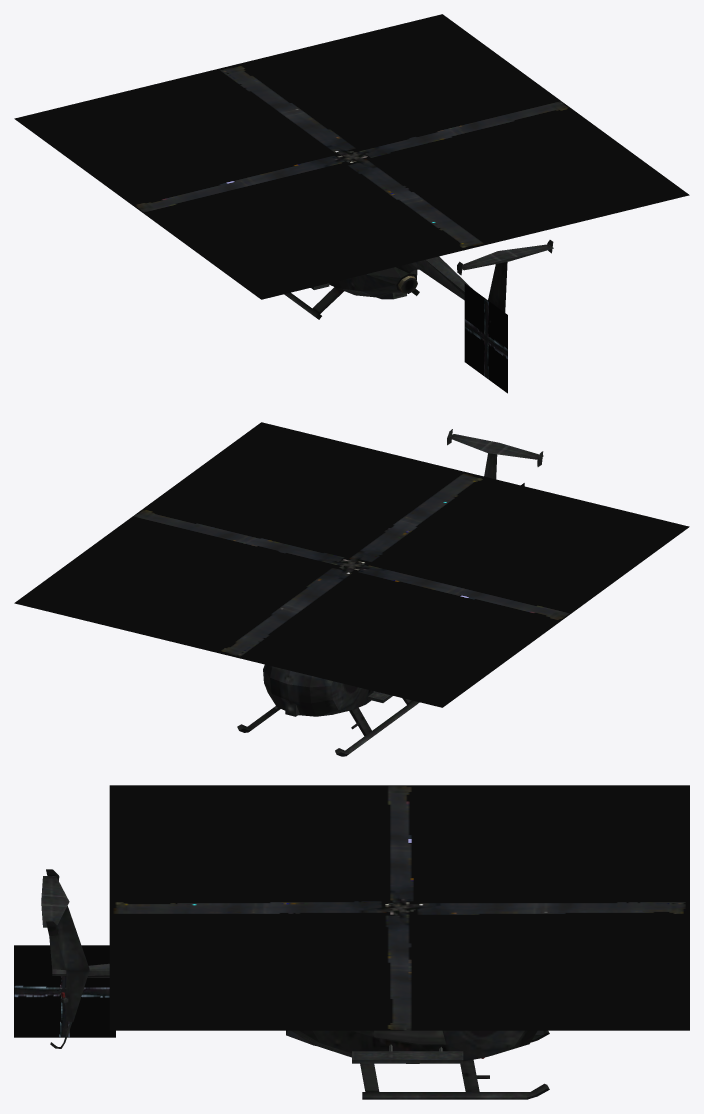
3 views of the same model, one above another, from view 1: azimuth 30°, elevation 25°; view 2: azimuth 150°, elevation 25°; view 3: azimuth 270°, elevation 25° (orthographic). The views are drawn at different scales.
Parts seen in each view (by area): view 1: top_rotor001, mesh-0, rear_rotor001; view 2: top_rotor001, mesh-0; view 3: top_rotor001, mesh-0, rear_rotor001.
Boxes of the visible parts, bbox=[...] form: top_rotor001: bbox=[14, 14, 689, 299]; mesh-0: bbox=[284, 240, 553, 319]; rear_rotor001: bbox=[464, 283, 507, 393]; top_rotor001: bbox=[14, 422, 689, 707]; mesh-0: bbox=[237, 429, 543, 756]; top_rotor001: bbox=[109, 785, 689, 1030]; mesh-0: bbox=[41, 869, 549, 1099]; rear_rotor001: bbox=[14, 945, 115, 1037].
Bounding box in the file's own units: 8.03 × 2.74 × 9.36.
3 materials, 3 textured.
